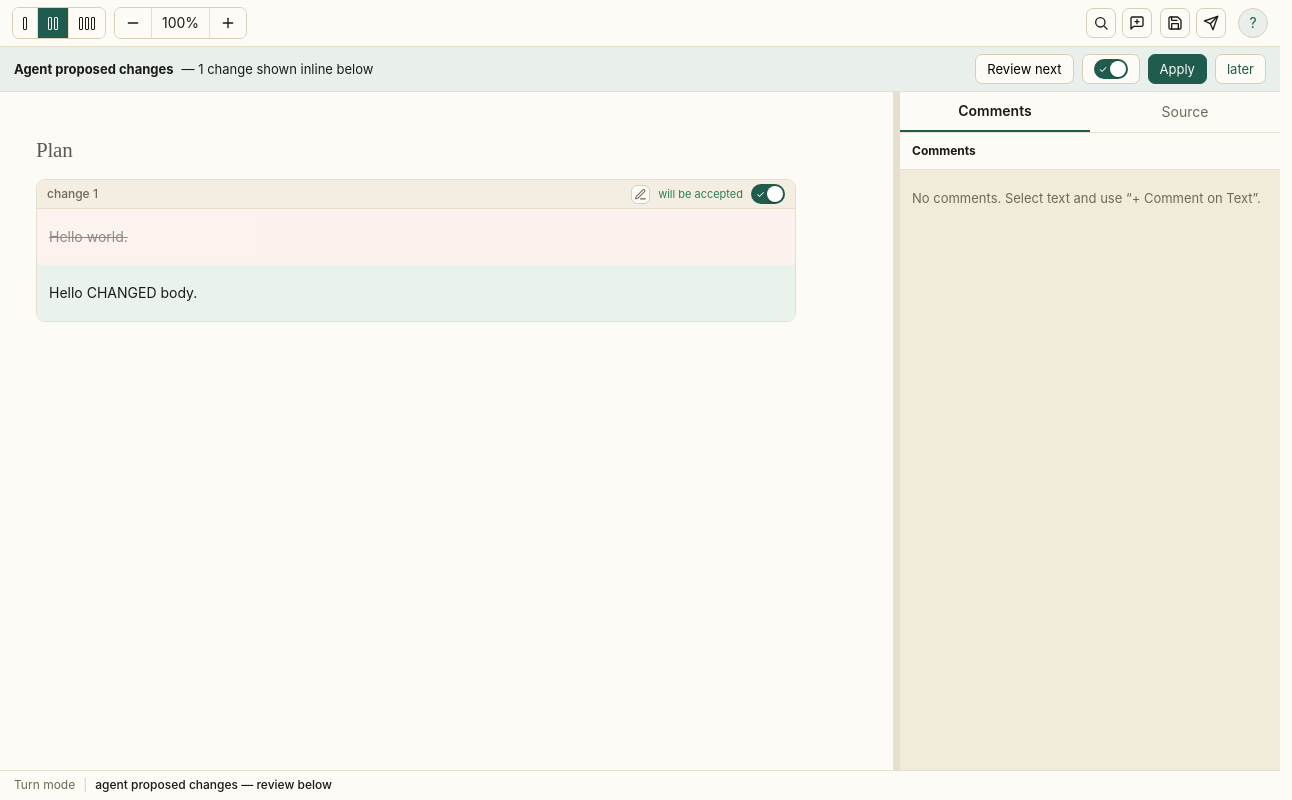
Test: App applyProposal comment merge (memory-backed) › a doc comment added during review survives Accept all + Apply
Click the button named "comment on doc". click: (1137,23)
box: [1122,8,1152,38]
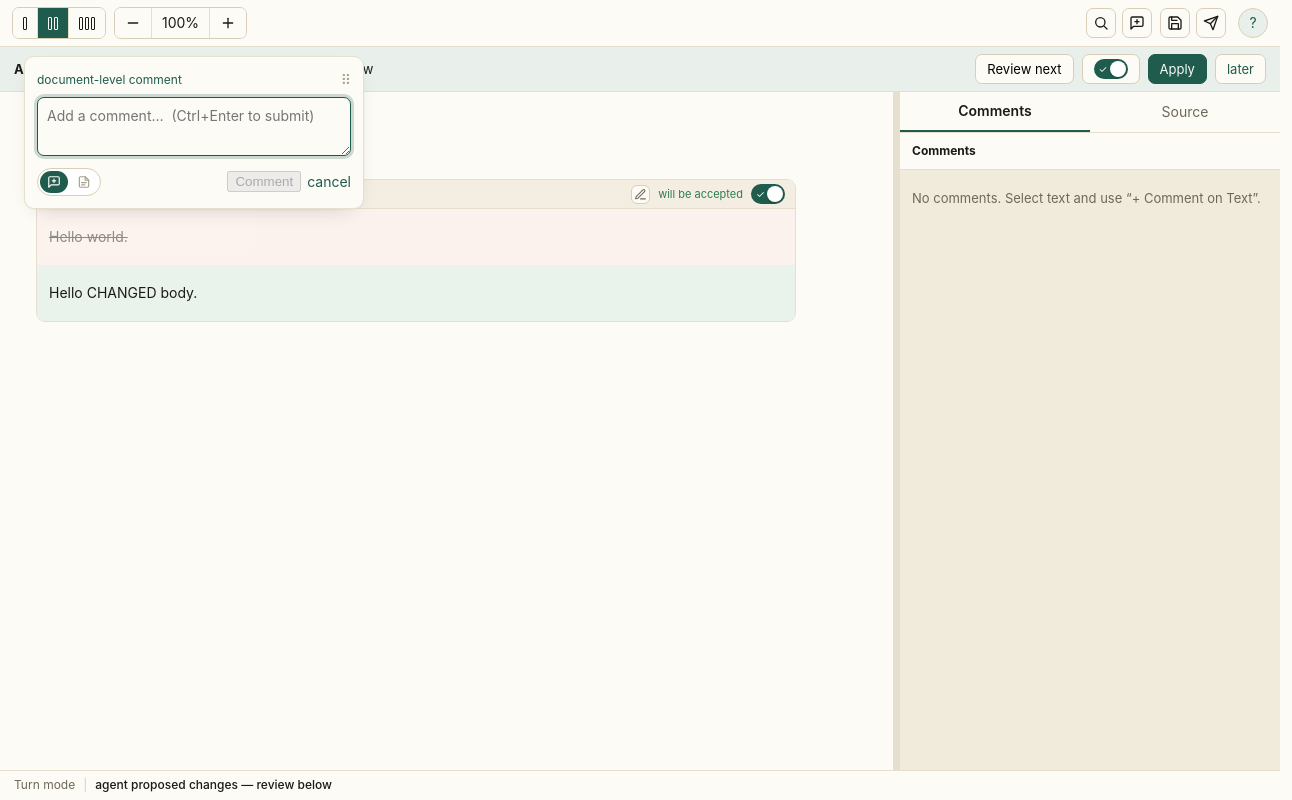
Type "Reviewer note added mid-review" into the dropdown with placeholder "Add a comment… (Ctrl+Enter to submit)". click: (194,126)
box: [37,97,351,156]
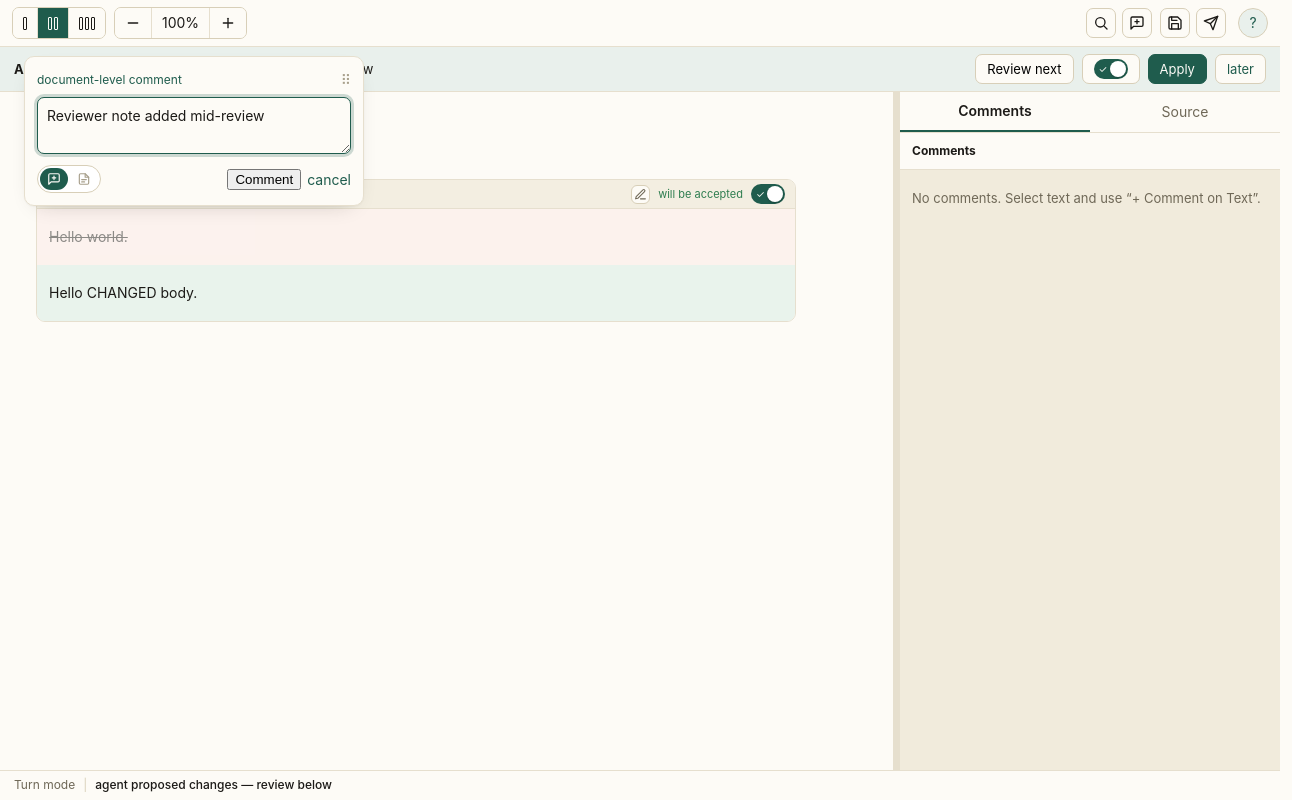
Click the button "Comment". click: (264,179)
box: [227,169,301,190]
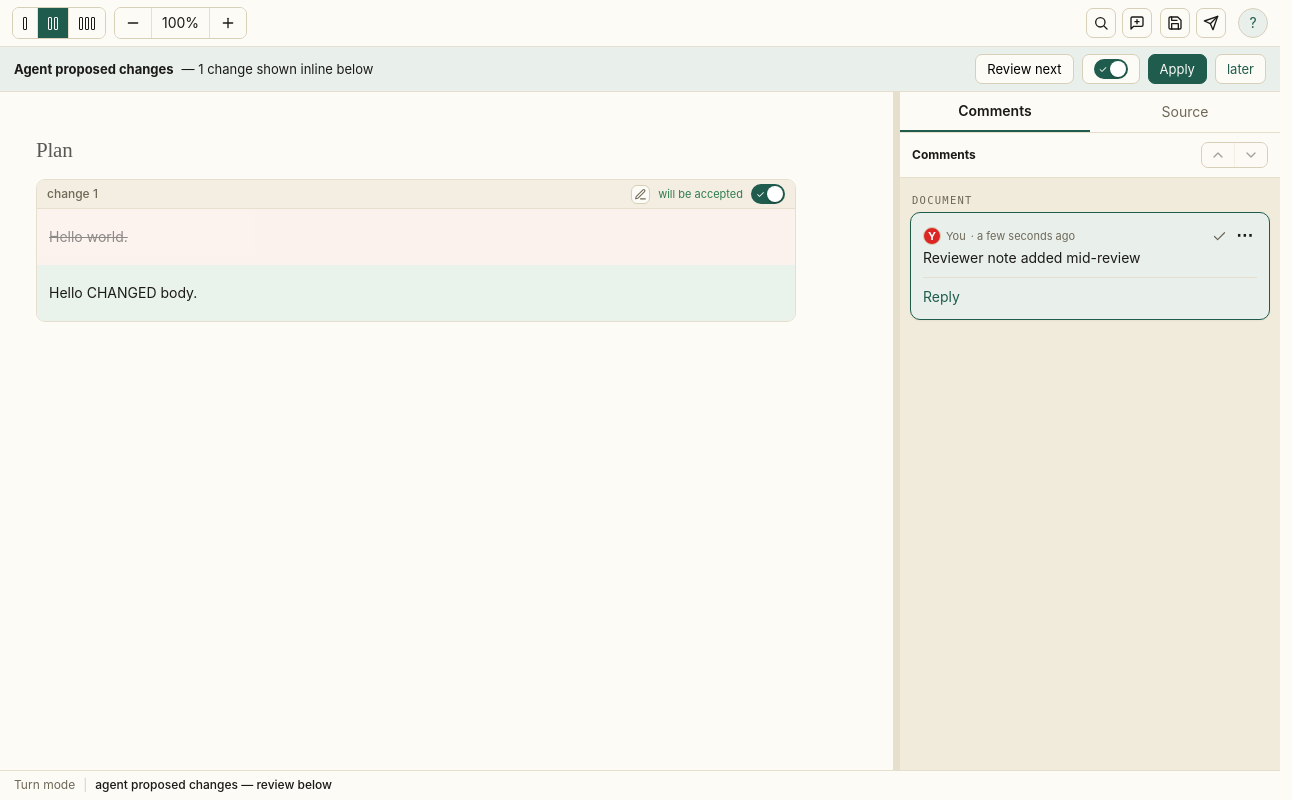
Check: the text "Reviewer note added mid-review" is shown, box [923,249,1140,266]
Click the button "Apply". click: (1177,69)
box: [1148,54,1207,84]
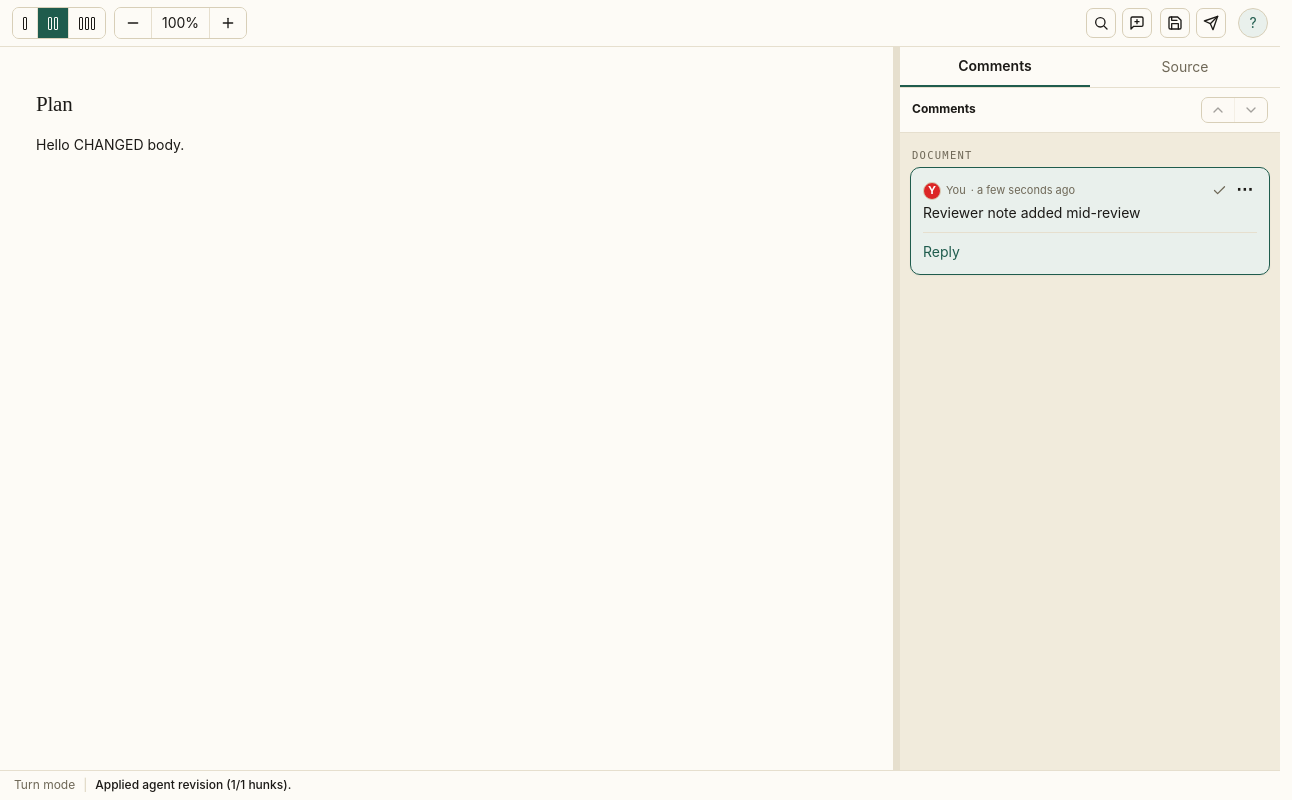
Check: the text "Hello CHANGED body." is shown, box [36,136,184,153]
Check: the text "Reviewer note added mid-review" is shown, box [923,204,1140,221]
Check: the text "Agent proposed changes" is gone
